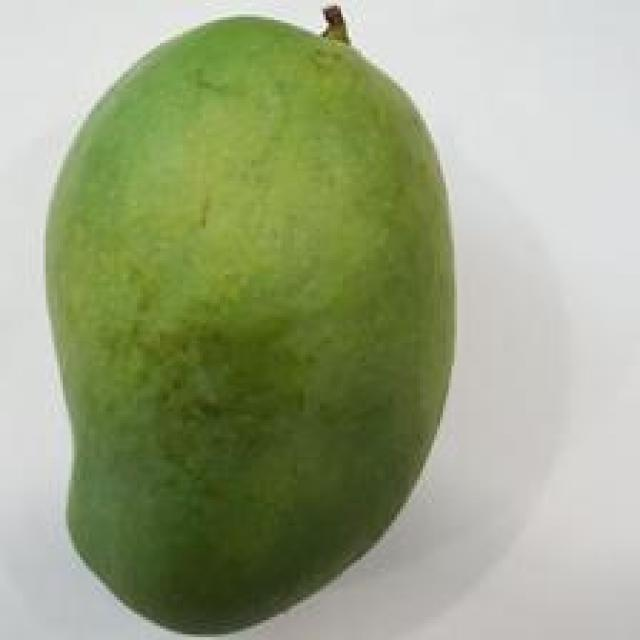Good_Mango: (40, 14, 460, 637)
